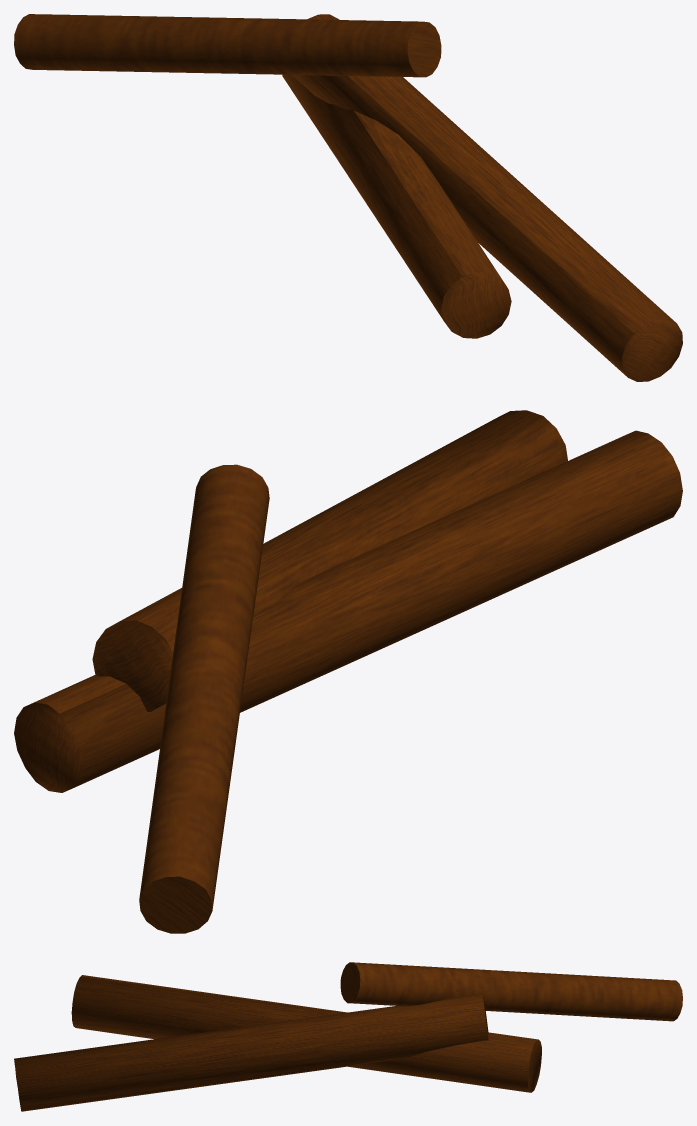
The model's file is kitchen-woodLogs.obj.
3 views of the same model, one above another, from view 1: azimuth 30°, elevation 25°; view 2: azimuth 150°, elevation 25°; view 3: azimuth 270°, elevation 25° (orthographic). The views are drawn at different scales.
Visible parts, largest first — view 1: logs_Cylinder.011; view 2: logs_Cylinder.011; view 3: logs_Cylinder.011.
Boxes of the visible parts, x1,y1,x2,y2 form: logs_Cylinder.011: [14, 14, 682, 381]; logs_Cylinder.011: [14, 410, 682, 933]; logs_Cylinder.011: [14, 962, 682, 1111].
Size of the model in its own units: 0.492 by 0.376 by 1.59.
1 material, 1 textured.
